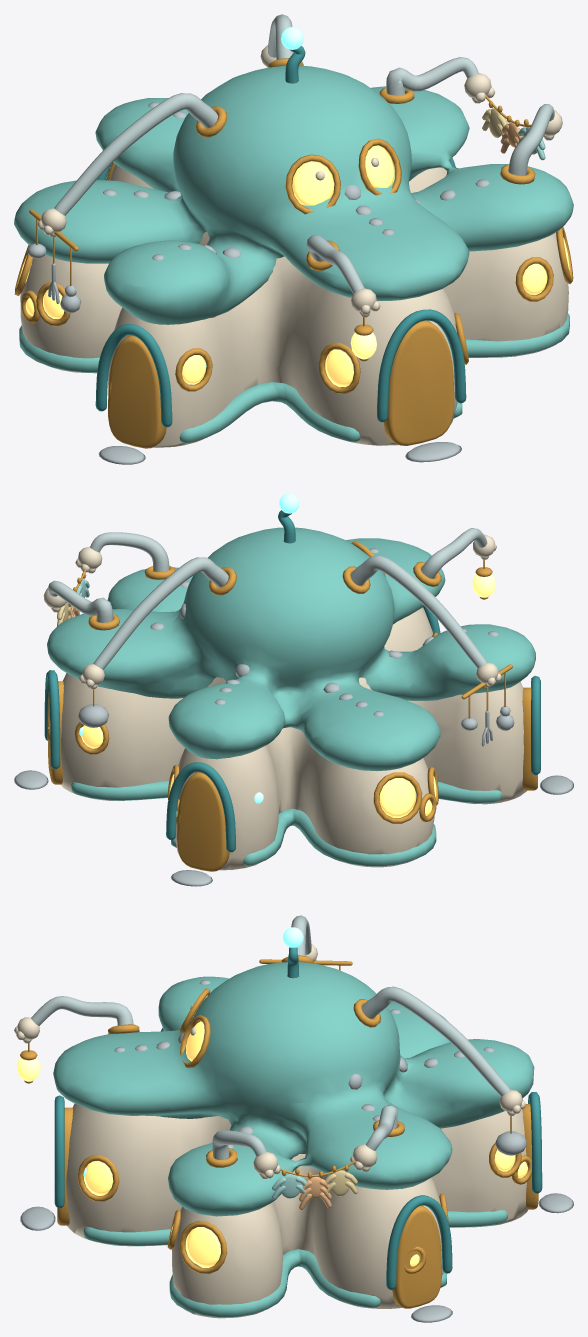
File: house_06_0601.fbx
3 views of the same model, one above another, from view 1: azimuth 30°, elevation 25°; view 2: azimuth 150°, elevation 25°; view 3: azimuth 270°, elevation 25° (orthographic). The views are drawn at different scales.
Parts seen in each view (by area): view 1: Tawan_RoofMantle, Tawan_Body, Tawan_Door_Main, Tawan_WindowRims, Tawan_BaseCushion, Tawan_Windows, Tawan_Door_FrontLeft, Tawan_Arm_ToolsL, Tawan_DoorRim_Main, Tawan_DoorRim_FrontLeft, Tawan_ArmHands, Tawan_Arm_ClothesB (+8 smaller); view 2: Tawan_RoofMantle, Tawan_Body, Tawan_BaseCushion, Tawan_Door_Back, Tawan_Arm_ToolsL, Tawan_Arm_ToolsBack, Tawan_WindowRims, Tawan_ArmHands, Tawan_DoorRim_Back, Tawan_Windows, Tawan_Arm_ClothesA, Tawan_Tools (+10 smaller); view 3: Tawan_RoofMantle, Tawan_Body, Tawan_BaseCushion, Tawan_WindowRims, Tawan_Door_BackRight, Tawan_Windows, Tawan_Arm_ToolsBack, Tawan_ArmHands, Tawan_DoorRim_BackRight, Tawan_Arm_Lantern, Tawan_DoorRim_Main, Tawan_RoofDots (+12 smaller).
Part boxes in pixels (x1,y1,x2,y2): Tawan_RoofMantle: (14, 65, 573, 324); Tawan_Body: (20, 164, 568, 447); Tawan_Door_Main: (384, 320, 454, 445); Tawan_WindowRims: (14, 138, 573, 393); Tawan_BaseCushion: (19, 313, 569, 443); Tawan_Windows: (20, 145, 569, 387); Tawan_Door_FrontLeft: (108, 335, 166, 448); Tawan_Arm_ToolsL: (54, 93, 218, 215); Tawan_DoorRim_Main: (377, 309, 466, 422); Tawan_DoorRim_FrontLeft: (95, 324, 172, 427); Tawan_ArmHands: (37, 45, 562, 317); Tawan_Arm_ClothesB: (386, 57, 478, 95); Tawan_RoofMantle: (47, 527, 535, 770); Tawan_Body: (61, 607, 526, 870); Tawan_BaseCushion: (71, 780, 502, 866); Tawan_Door_Back: (177, 772, 229, 871); Tawan_Arm_ToolsL: (350, 555, 487, 668); Tawan_Arm_ToolsBack: (93, 557, 228, 669); Tawan_WindowRims: (47, 541, 438, 824); Tawan_ArmHands: (43, 534, 501, 689); Tawan_DoorRim_Back: (166, 762, 235, 852); Tawan_Windows: (48, 725, 436, 817); Tawan_Arm_ClothesA: (90, 532, 169, 571); Tawan_Tools: (78, 704, 514, 746); Tawan_RoofMantle: (53, 962, 534, 1216); Tawan_Body: (66, 1103, 527, 1318); Tawan_BaseCushion: (83, 1210, 507, 1317); Tawan_WindowRims: (77, 988, 531, 1274); Tawan_Door_BackRight: (392, 1205, 441, 1308); Tawan_Windows: (83, 995, 527, 1267); Tawan_Arm_ToolsBack: (362, 986, 510, 1096); Tawan_ArmHands: (14, 943, 525, 1178); Tawan_DoorRim_BackRight: (386, 1195, 452, 1290); Tawan_Arm_Lantern: (31, 996, 133, 1025); Tawan_DoorRim_Main: (54, 1095, 64, 1208); Tawan_RoofDots: (114, 980, 494, 1148).
Size of the model in its own units: 6.61 by 3.98 by 6.95.
